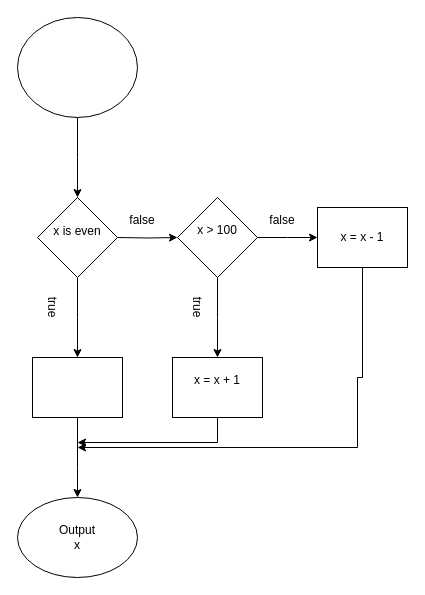
Some shapes in this 425 by 595 pixel diagram are drawn without their labels. The centre of each missing label's shape, as x and y in pixels:
Input x: the point at 77,67
x = x / 10: the point at 77,387
